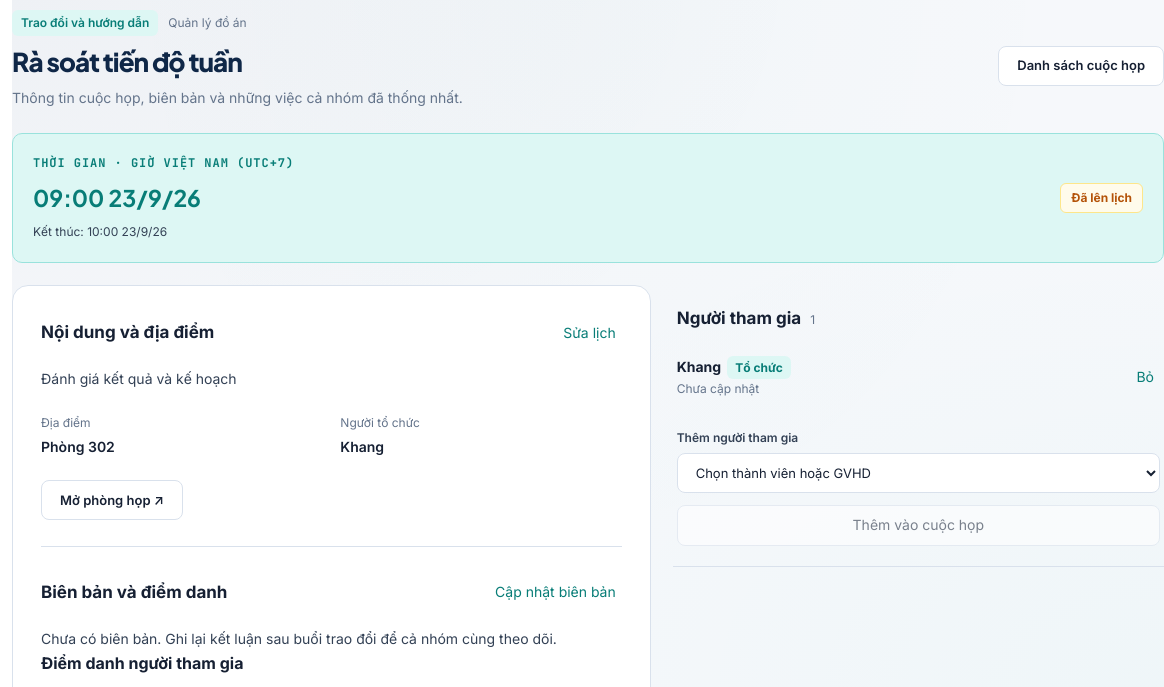
Test: Meetings end-user workflow › does not overwrite an untouched nullable attendance
Click the button "Cập nhật biên bản" at (555, 592), box x1=489 y1=573 x2=622 y2=612
(page scrolled)
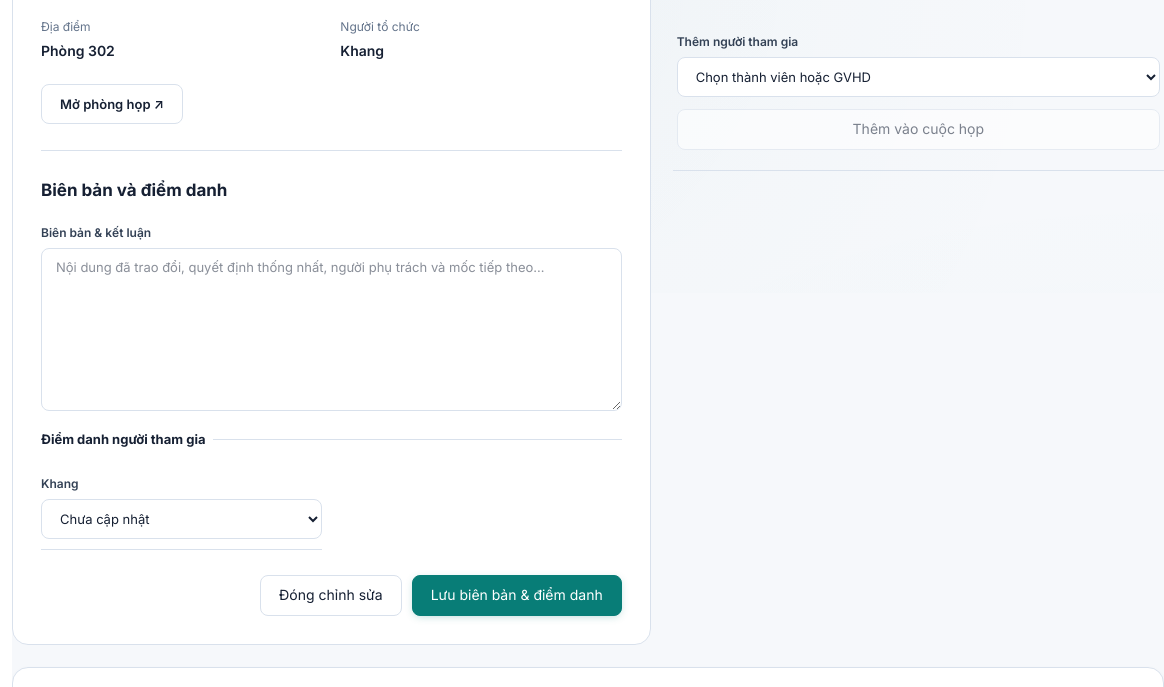
Replace the text in the text box labelled "Biên bản & kết luận" with "Kết luận" at (331, 330), box x1=41 y1=248 x2=622 y2=411
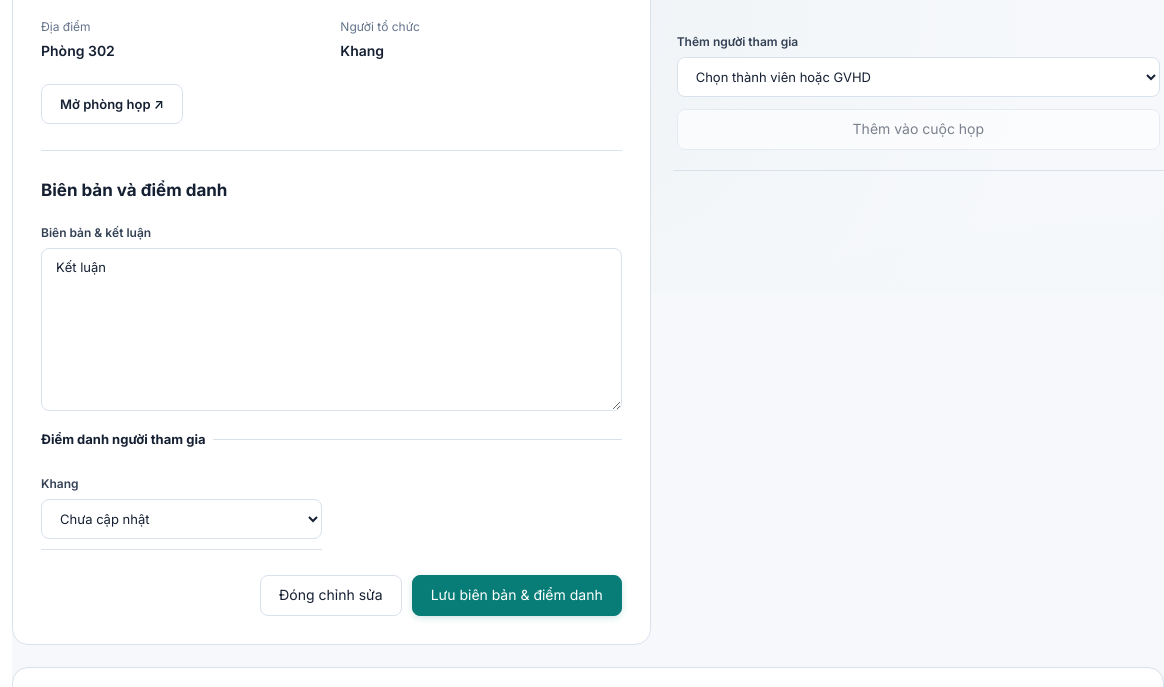
Click the button "Lưu biên bản & điểm danh" at (517, 596), box x1=412 y1=575 x2=622 y2=616
(page scrolled)
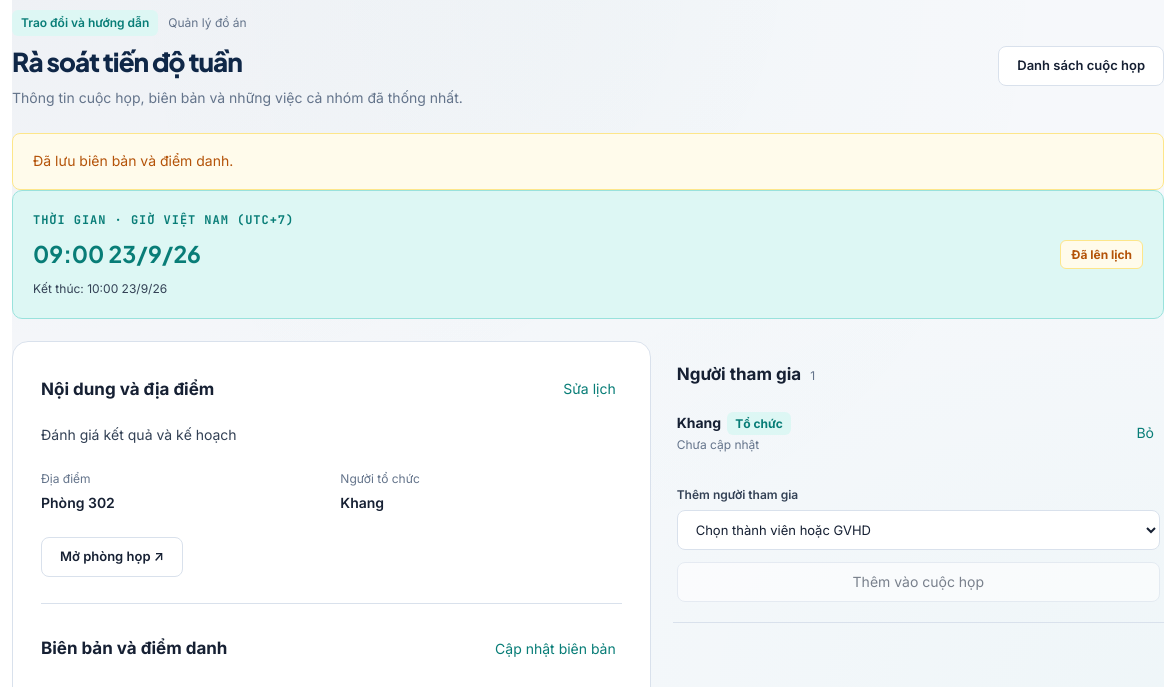
Result: the text "Đã lưu biên bản và điểm danh." is shown at x1=12 y1=133 x2=1163 y2=190
